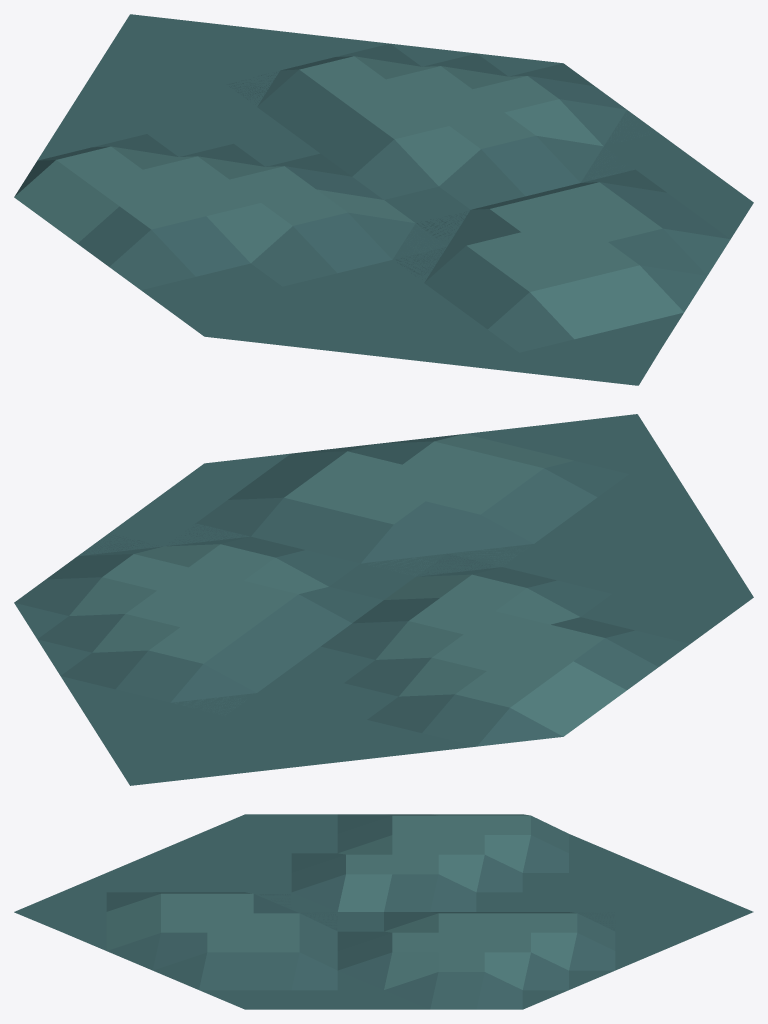
The model's file is IronOre.fbx.
3 views of the same model, one above another, from view 1: azimuth 30°, elevation 25°; view 2: azimuth 150°, elevation 25°; view 3: azimuth 270°, elevation 25° (orthographic). The views are drawn at different scales.
Visible parts, largest first — view 1: Plane; view 2: Plane; view 3: Plane.
Part boxes in pixels (x1,y1,x2,y2): Plane: (14, 14, 753, 385); Plane: (14, 414, 753, 785); Plane: (14, 814, 753, 1009).
Bounding box in the file's own units: 1.25 × 0.0469 × 2.
